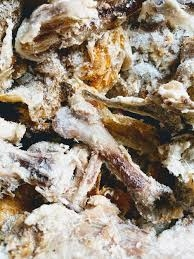kitchen_waste: (48, 98, 183, 219), (22, 192, 138, 259), (1, 134, 106, 206)
